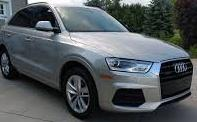Cars: (1, 4, 194, 118)
